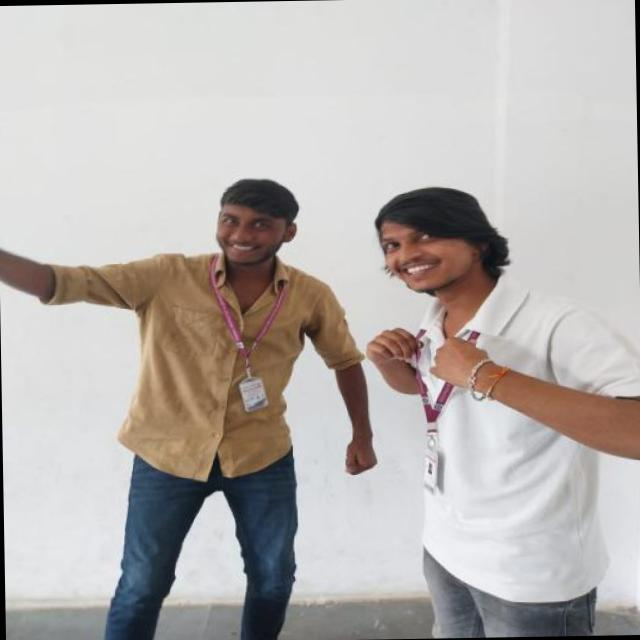id_card: (412, 310, 481, 492), (212, 254, 288, 412)
